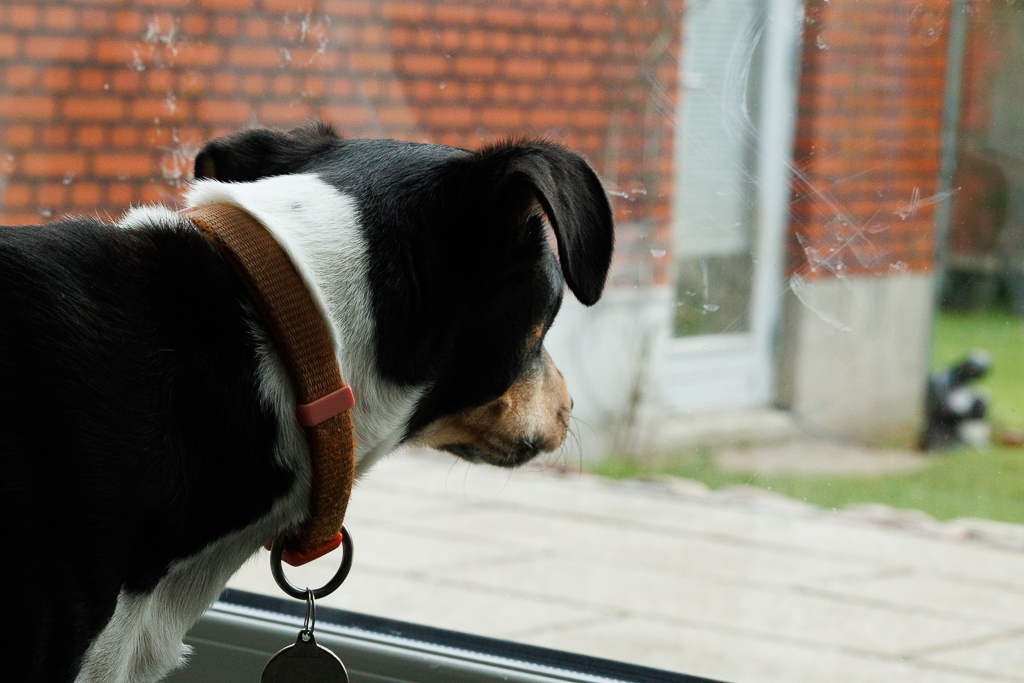Dog: (0, 112, 623, 683)
Humanoid: (905, 332, 1012, 464)
